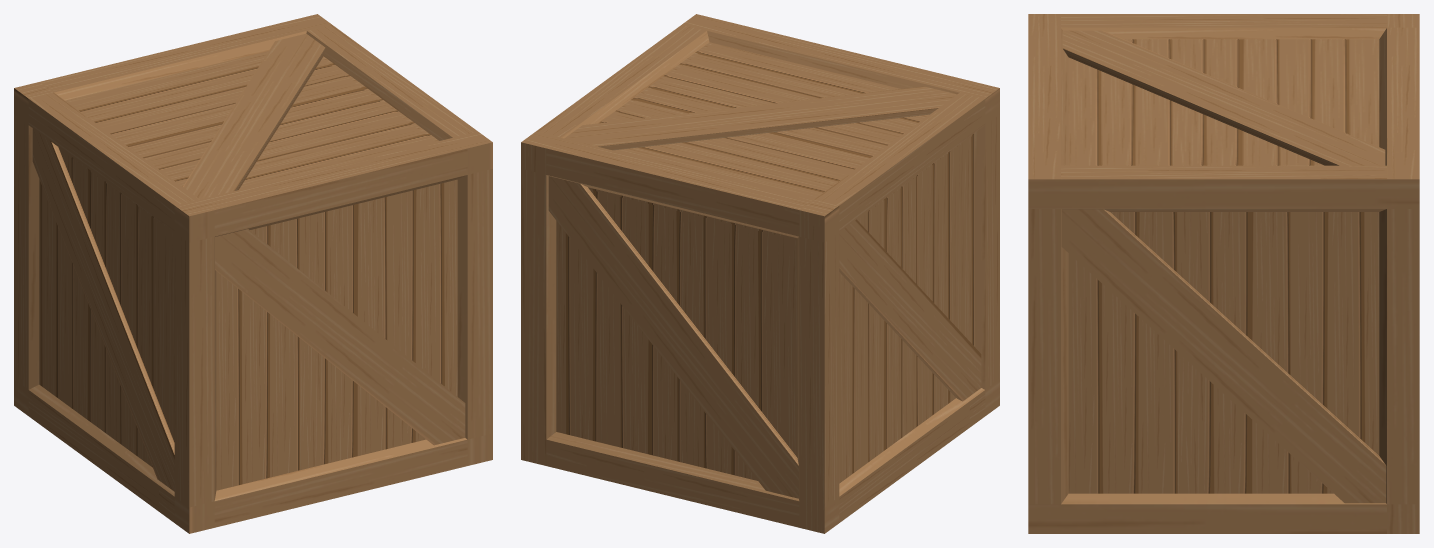
The model's file is Crate.fbx.
3 views of the same model, side by side, from view 1: azimuth 30°, elevation 25°; view 2: azimuth 150°, elevation 25°; view 3: azimuth 270°, elevation 25° (orthographic). The views are drawn at different scales.
Parts seen in each view (by area): view 1: Crate; view 2: Crate; view 3: Crate.
Part boxes in pixels (x1,y1,x2,y2): Crate: [14, 14, 492, 533]; Crate: [521, 14, 999, 533]; Crate: [1028, 14, 1419, 533].
Size of the model in its own units: 200 by 200 by 200.
